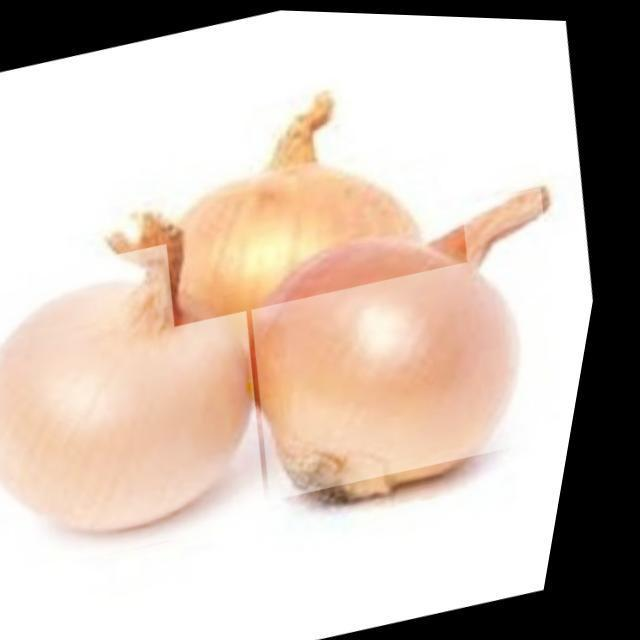Onion: (221, 176, 612, 507), (0, 218, 323, 592), (143, 89, 498, 332)
